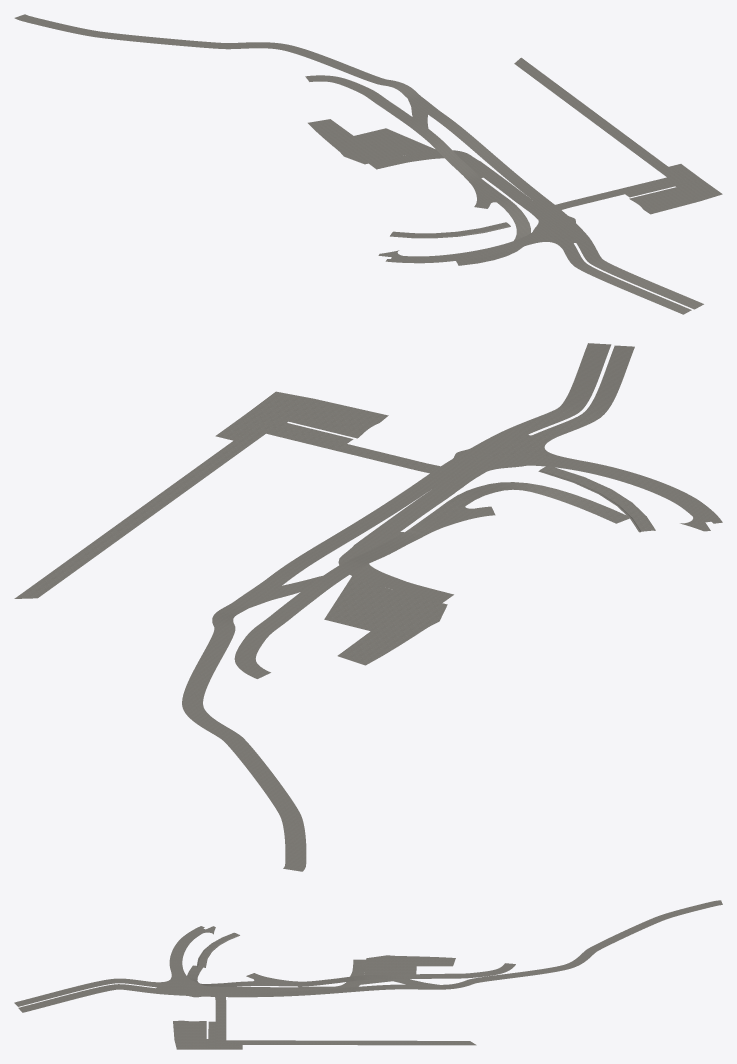
3 views of the same model, one above another, from view 1: azimuth 30°, elevation 25°; view 2: azimuth 150°, elevation 25°; view 3: azimuth 270°, elevation 25° (orthographic). The views are drawn at different scales.
Parts seen in each view (by area): view 1: kl_rd01_04a_04; view 2: kl_rd01_04a_04; view 3: kl_rd01_04a_04.
Boxes of the visible parts, x1,y1,x2,y2 form: kl_rd01_04a_04: [14, 14, 722, 314]; kl_rd01_04a_04: [14, 343, 722, 871]; kl_rd01_04a_04: [14, 900, 722, 1049].
Size of the model in its own units: 467 by 35.89 by 1000.
